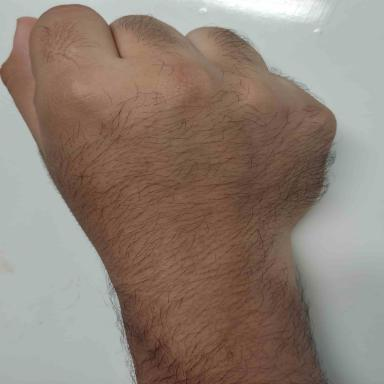normal skin: (1, 5, 336, 384)
